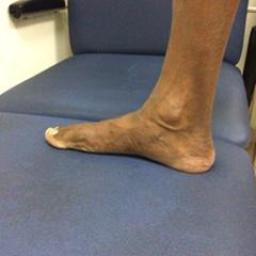Medial View -Right Foot-: (37, 66, 225, 187)
